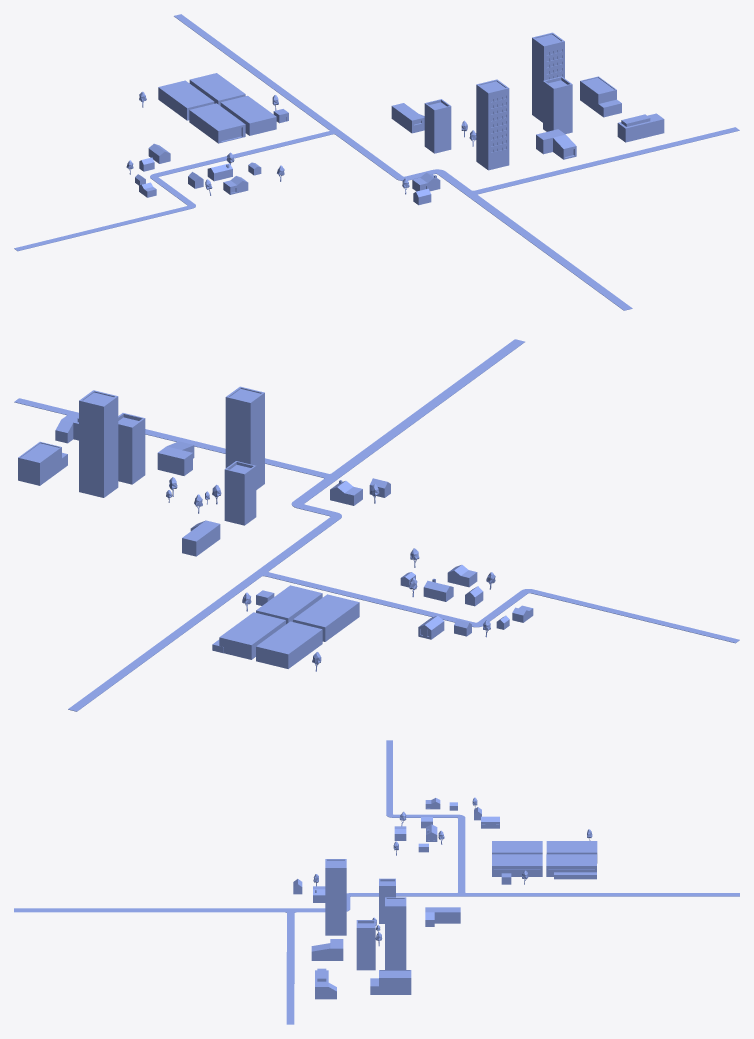
The model's file is maisons2.glb.
3 renders of one model, top to bottom at view 1: azimuth 30°, elevation 25°; view 2: azimuth 150°, elevation 25°; view 3: azimuth 270°, elevation 25°, orthographic. The views are drawn at different scales.
Visible parts, largest first — view 1: road, scan1, scan1.001, Cube.012, Cube.008, Cube.026, scan2.001, Cube.010, Cube.011, Cube.013, Cube.032, Cube.030 (+1 smaller); view 2: road, scan1.001, scan1, Cube.010, Cube.026, Cube.012, Cube.032, Cube.008, Cube.011, scan2.001, Cube.030, Cube.029 (+1 smaller); view 3: road, scan1, scan1.001, scan2.001, Cube.012, Cube.032, Cube.011, Cube.010, Cube.008, Cube.029, Cube.030, Cube.013 (+1 smaller).
Part boxes in pixels (<box>): road: <box>14,14,739,310</box>; scan1: <box>476,79,509,170</box>; scan1.001: <box>532,32,564,122</box>; Cube.012: <box>543,76,572,133</box>; Cube.008: <box>189,103,245,143</box>; Cube.026: <box>424,99,451,153</box>; scan2.001: <box>220,95,276,135</box>; Cube.010: <box>158,80,214,120</box>; Cube.011: <box>580,76,621,117</box>; Cube.013: <box>617,113,664,142</box>; Cube.032: <box>189,73,245,105</box>; Cube.030: <box>536,129,576,159</box>; road: <box>14,339,739,711</box>; scan1.001: <box>79,390,118,497</box>; scan1: <box>225,386,264,489</box>; Cube.010: <box>256,621,322,668</box>; Cube.026: <box>224,461,256,525</box>; Cube.012: <box>118,413,145,484</box>; Cube.032: <box>219,612,285,659</box>; Cube.008: <box>293,594,359,641</box>; Cube.011: <box>18,441,67,485</box>; scan2.001: <box>256,585,322,624</box>; Cube.030: <box>157,441,194,475</box>; Cube.029: <box>182,520,220,556</box>; road: <box>14,740,739,1024</box>; scan1: <box>325,859,346,935</box>; scan1.001: <box>385,897,406,969</box>; scan2.001: <box>492,854,542,876</box>; Cube.012: <box>356,920,375,970</box>; Cube.032: <box>546,854,596,876</box>; Cube.011: <box>370,970,411,994</box>; Cube.010: <box>546,841,597,863</box>; Cube.008: <box>492,841,542,854</box>; Cube.029: <box>425,907,460,926</box>; Cube.030: <box>311,939,343,960</box>; Cube.013: <box>315,968,336,999</box>.
Bounding box in the file's own units: 9.34 × 1.04 × 10.07.
